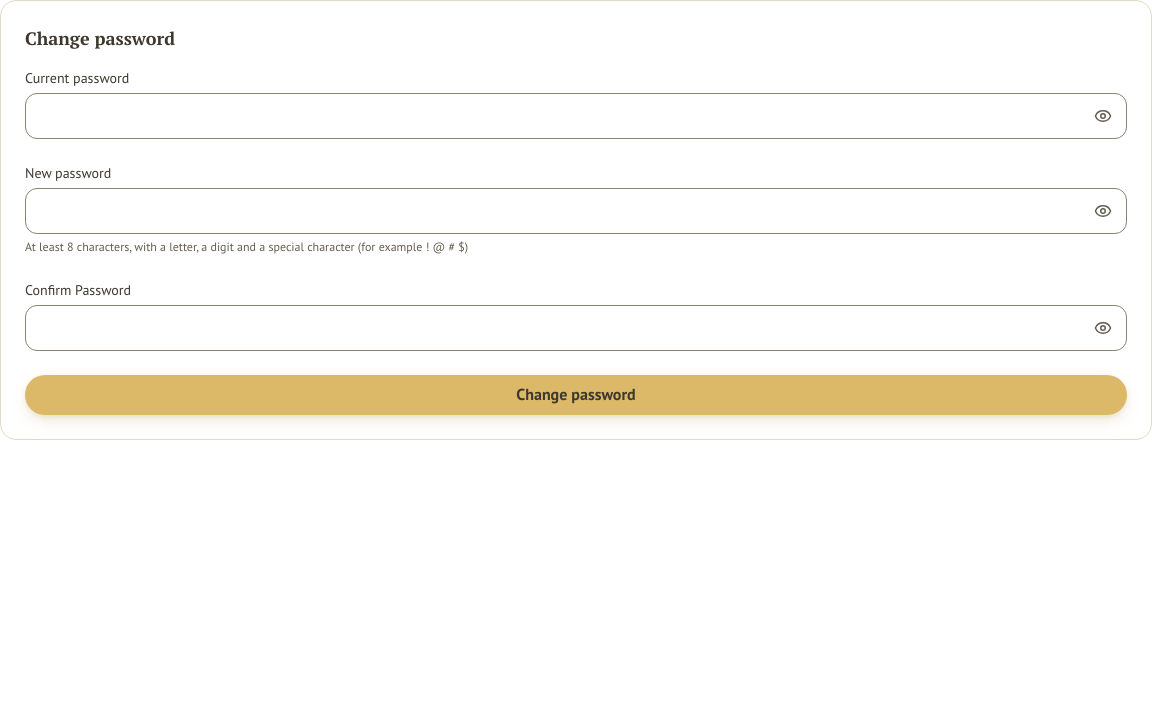
Test: ChangePasswordForm › an empty field is reported by the site, not by the browser, and nothing is sent
Click the button "Change password". click: (576, 395)
box: x1=25 y1=375 x2=1127 y2=415
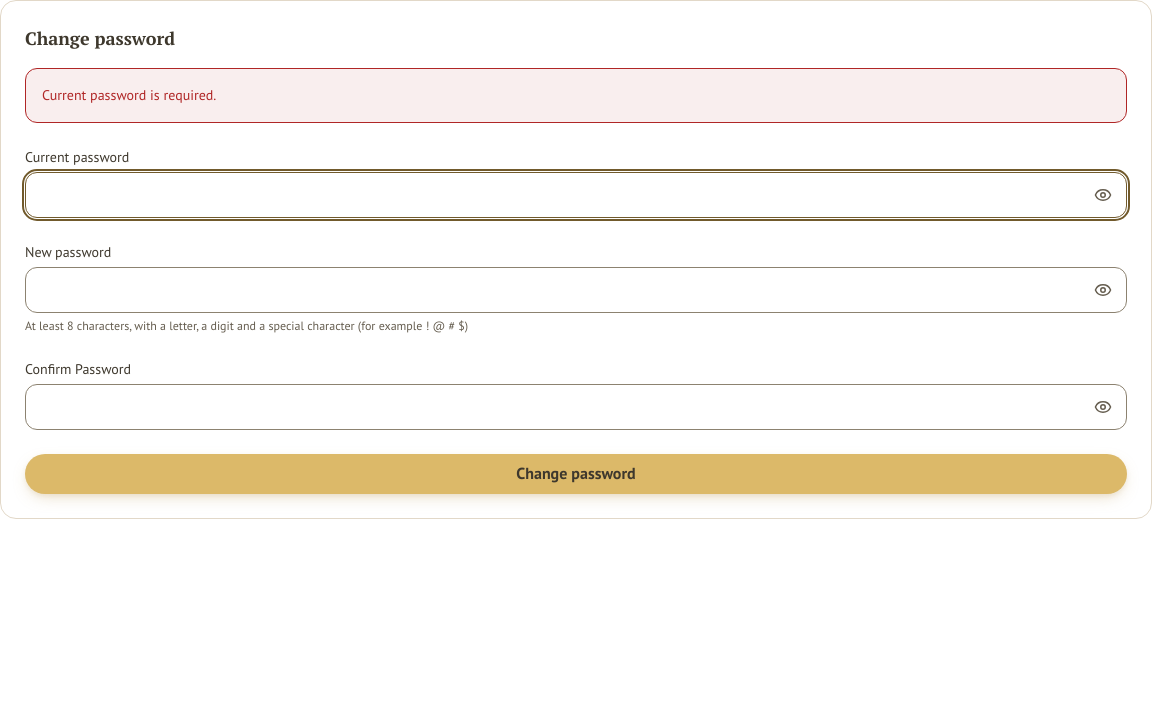
Expected: the message reads "Current password is required.", x1=42 y1=86 x2=216 y2=104
